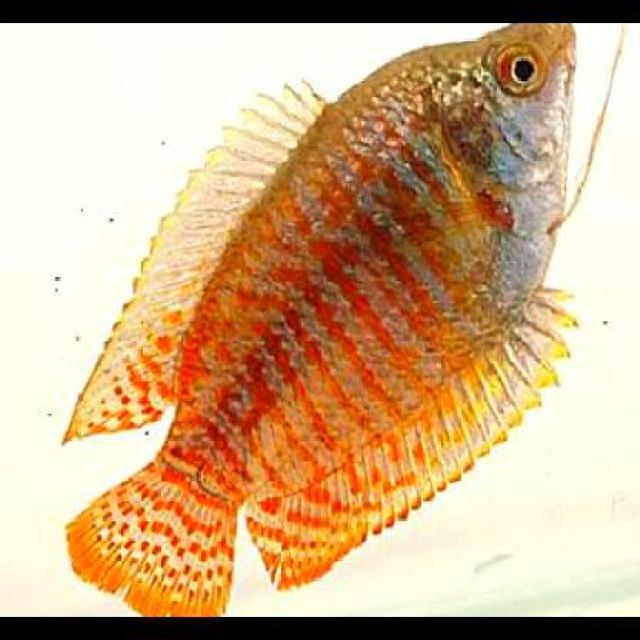Gourami: (61, 22, 585, 616)
